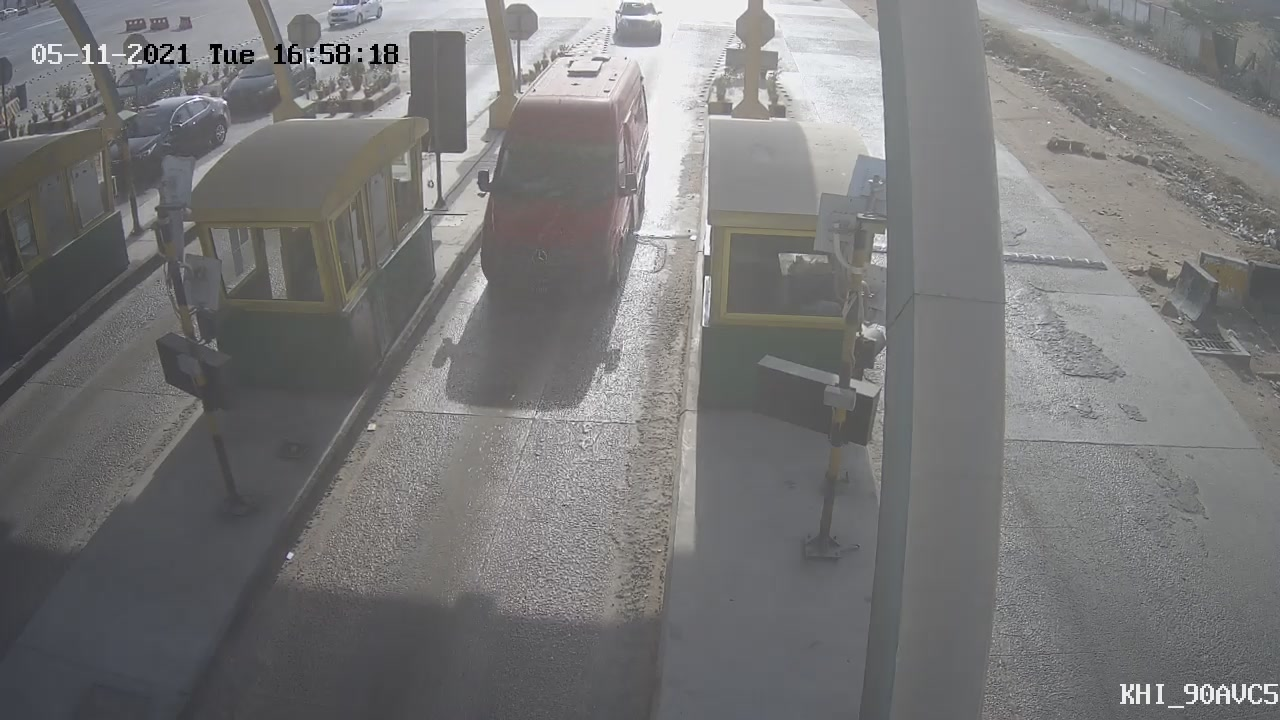F2: (455, 27, 673, 325)
